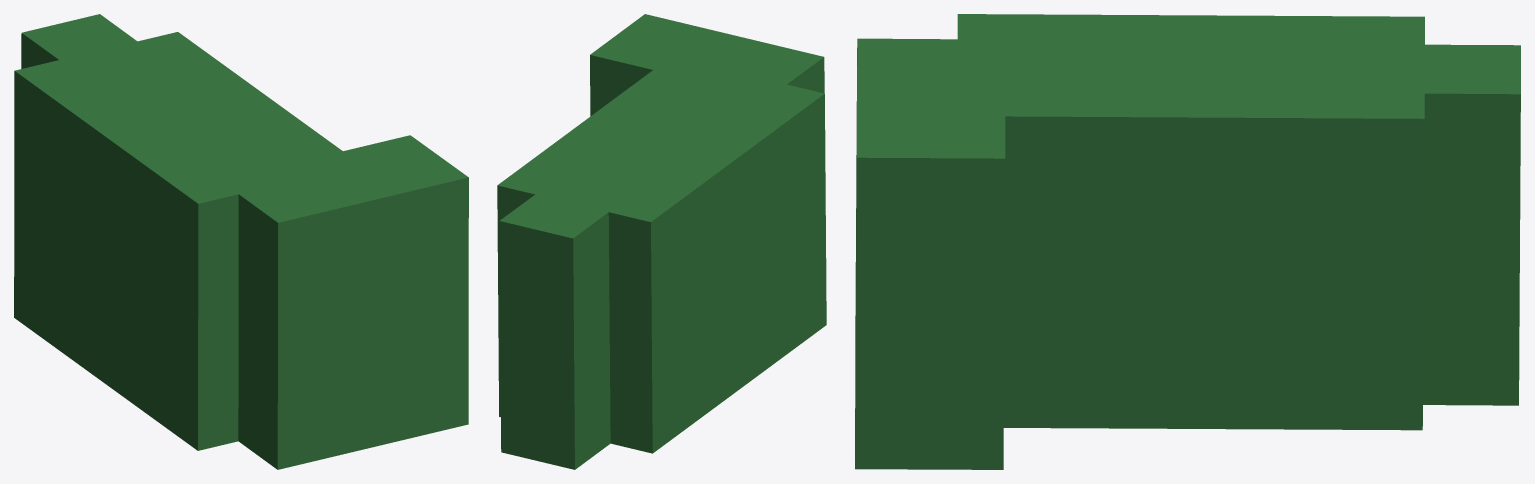
The model's file is Building_6.fbx.
The picture shows the model from 3 angles, left to right: view 1: azimuth 30°, elevation 25°; view 2: azimuth 150°, elevation 25°; view 3: azimuth 270°, elevation 25°; orthographic projection. The views are drawn at different scales.
Parts seen in each view (by area): view 1: building6; view 2: building6; view 3: building6.
Boxes of the visible parts, bbox=[...] form: building6: bbox=[14, 14, 468, 469]; building6: bbox=[497, 14, 826, 469]; building6: bbox=[855, 14, 1520, 469].
Size of the model in its own units: 80.86 by 83.03 by 159.
